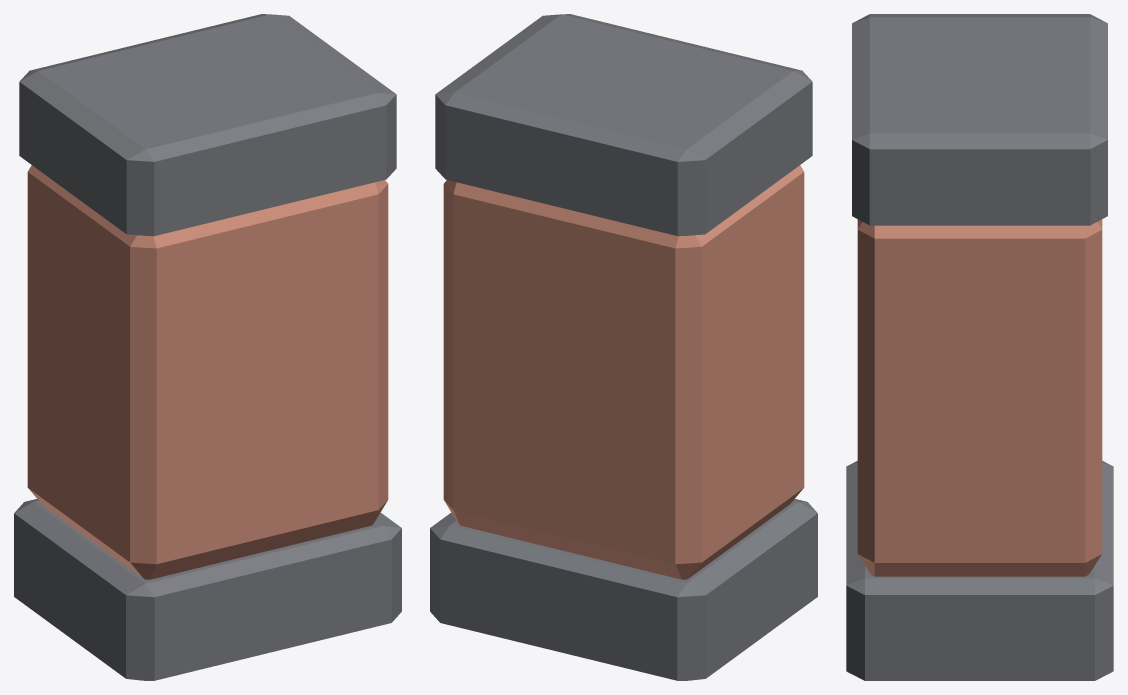
The model's file is b12_masonry_chimney_stack.glb.
3 renders of one model, left to right at view 1: azimuth 30°, elevation 25°; view 2: azimuth 150°, elevation 25°; view 3: azimuth 270°, elevation 25°, orthographic. The views are drawn at different scales.
Visible parts, largest first — view 1: b12_masonry_chimney_stack; view 2: b12_masonry_chimney_stack; view 3: b12_masonry_chimney_stack.
Part boxes in pixels (x1,y1,x2,y2): b12_masonry_chimney_stack: (14,14,401,680); b12_masonry_chimney_stack: (430,14,817,680); b12_masonry_chimney_stack: (846,14,1113,680).
Bounding box in the file's own units: 0.99 × 1.81 × 0.81.
